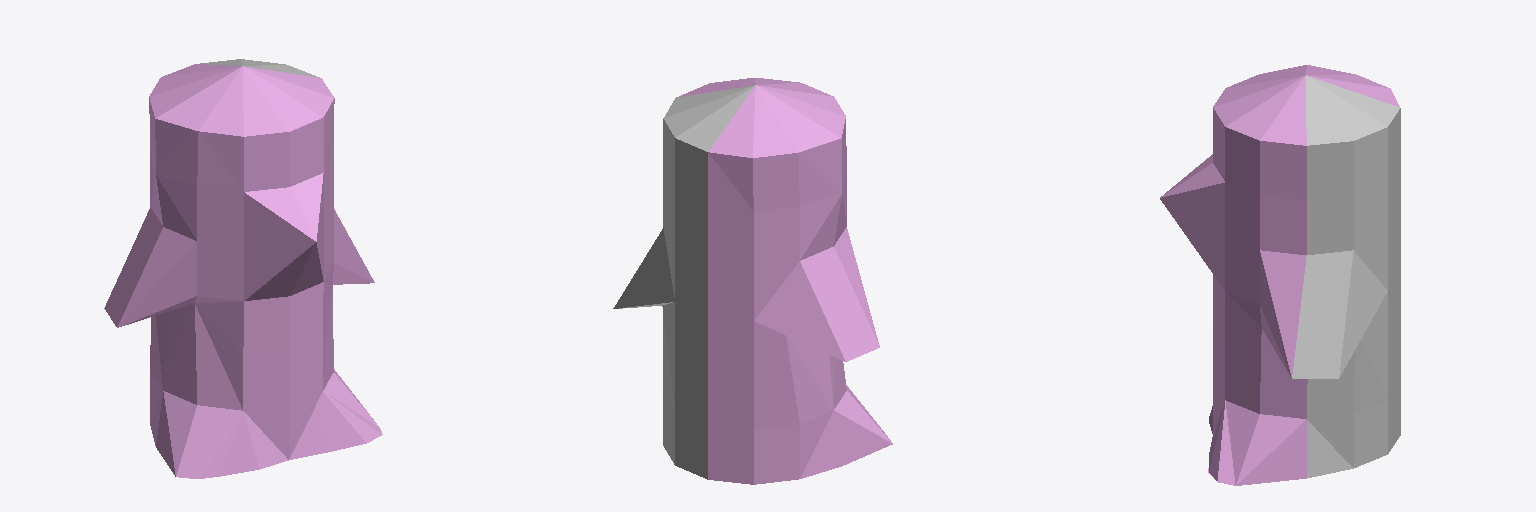
File: Penguin.obj
3 views of the same model, side by side, from view 1: azimuth 30°, elevation 25°; view 2: azimuth 150°, elevation 25°; view 3: azimuth 270°, elevation 25° (orthographic).
Parts seen in each view (by area): view 1: Cylinder01; view 2: Cylinder01; view 3: Cylinder01.
Boxes of the visible parts, x1=… form: Cylinder01: x1=104, y1=59, x2=382, y2=478; Cylinder01: x1=613, y1=78, x2=892, y2=484; Cylinder01: x1=1160, y1=65, x2=1400, y2=485.
Bounding box in the file's own units: 1.11 × 1.53 × 0.9277.